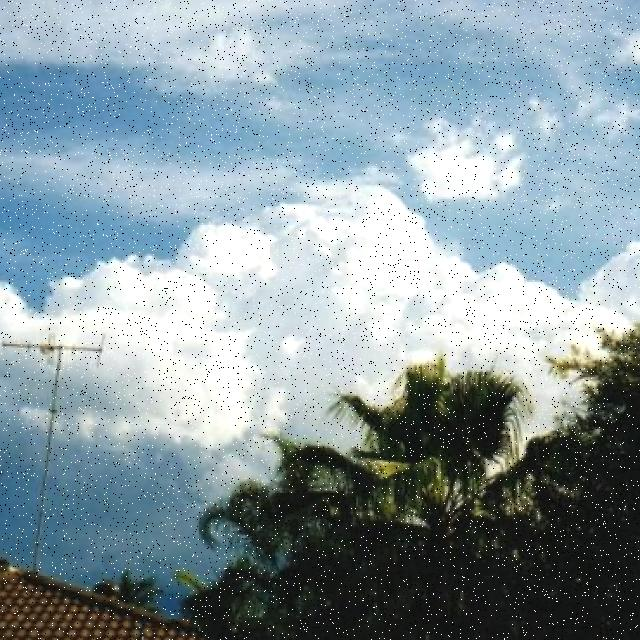Cs: (1, 5, 640, 373)
